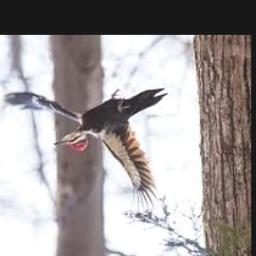Woodpecker: (4, 89, 167, 212)
